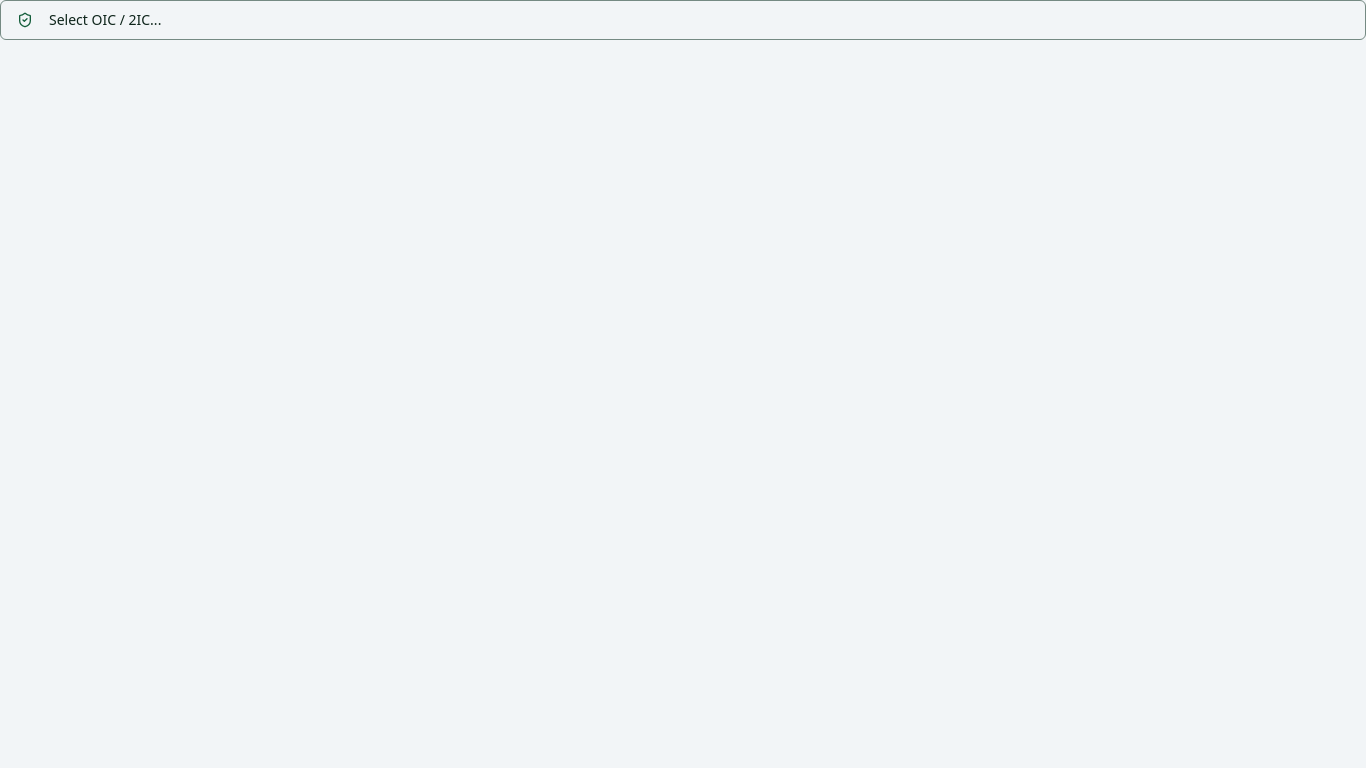
Test: AuthorisedByPicker — empty results & errors › renders the empty-state when no officers are returned
Click the button "Select OIC / 2IC...". click: (105, 20)
box: 0,0 -> 1365,40
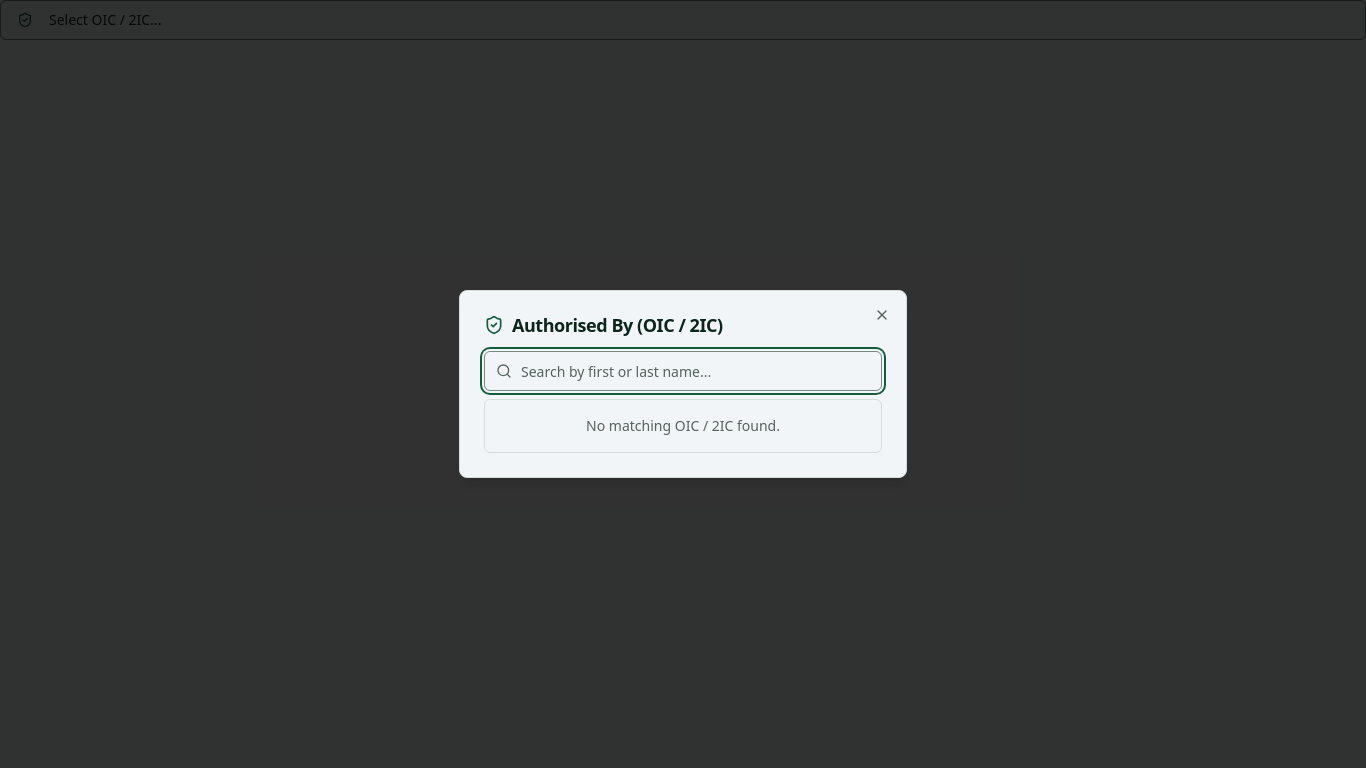
Check: the text "No matching OIC / 2IC found." is shown, box 586,416 -> 780,435
